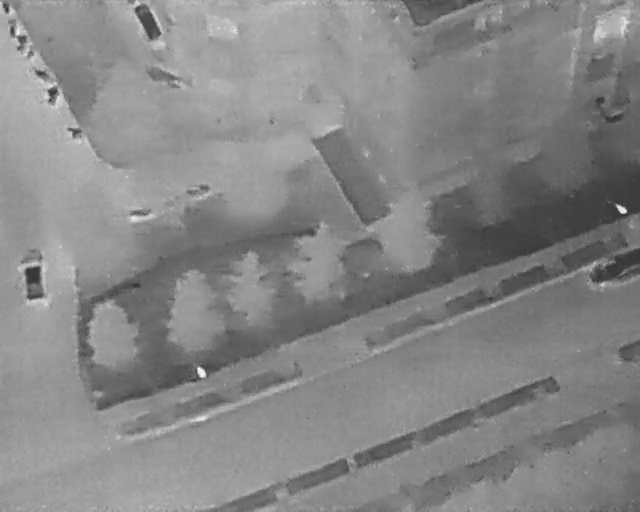Car: (589, 243, 640, 288), (17, 244, 50, 307)
